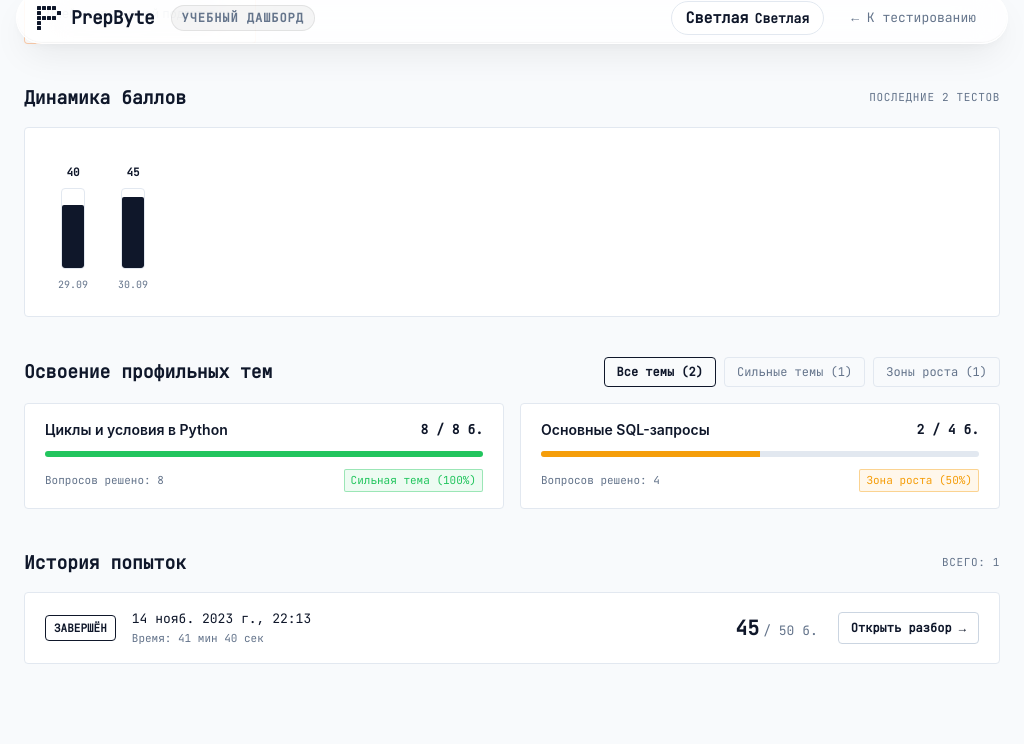
Test: AnalyticsDashboard › renders dashboard with KPIs, topics, and recent attempts
(page scrolled)
Expected: the heading "Циклы и условия в Python" is shown, x1=45 y1=420 x2=228 y2=439
Expected: the heading "Основные SQL-запросы" is shown, x1=541 y1=420 x2=710 y2=439
Filter by strong
What coordinates should you click on to do the following:
click the button "Сильные темы (1)"
I would click on:
 (795, 372)
Its box is x1=724 y1=357 x2=865 y2=387.
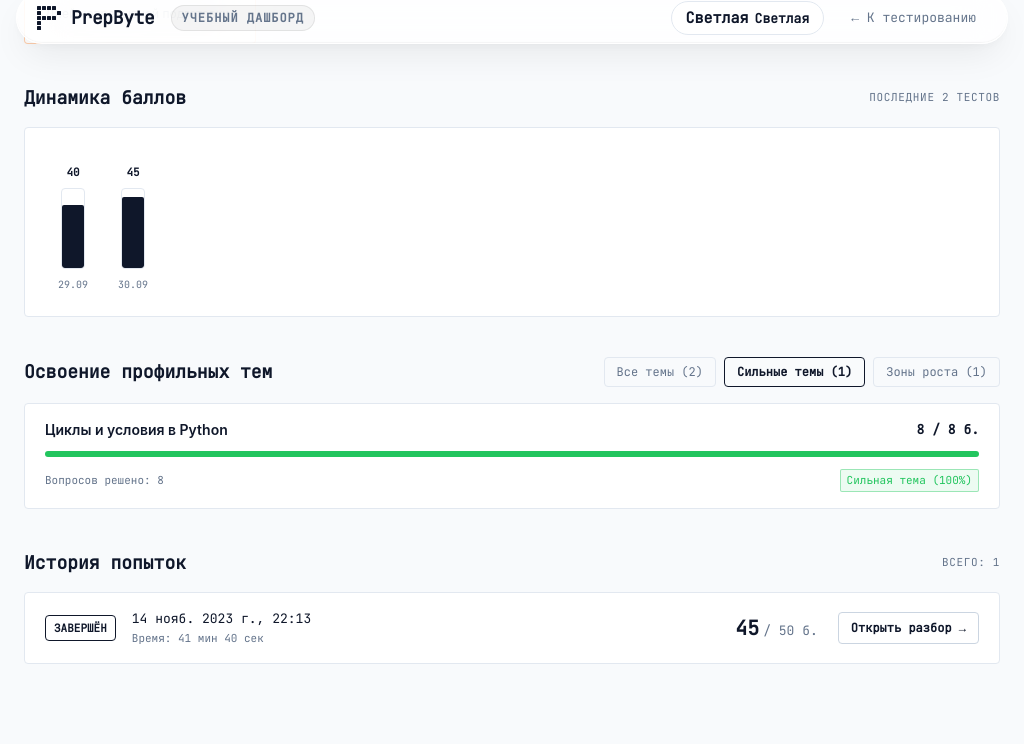
Expected: the heading "Циклы и условия в Python" is shown, x1=45 y1=420 x2=228 y2=439
Now the heading "Основные SQL-запросы" is gone
